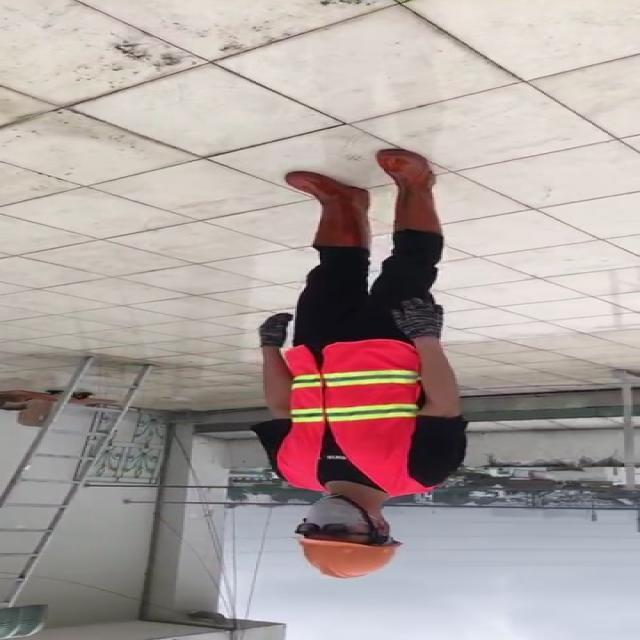Boots: (283, 168, 373, 247), (376, 149, 446, 237)
Gloves: (390, 295, 450, 342), (258, 310, 296, 346)
Helmet: (286, 535, 407, 581)
Vest: (281, 341, 427, 496)
